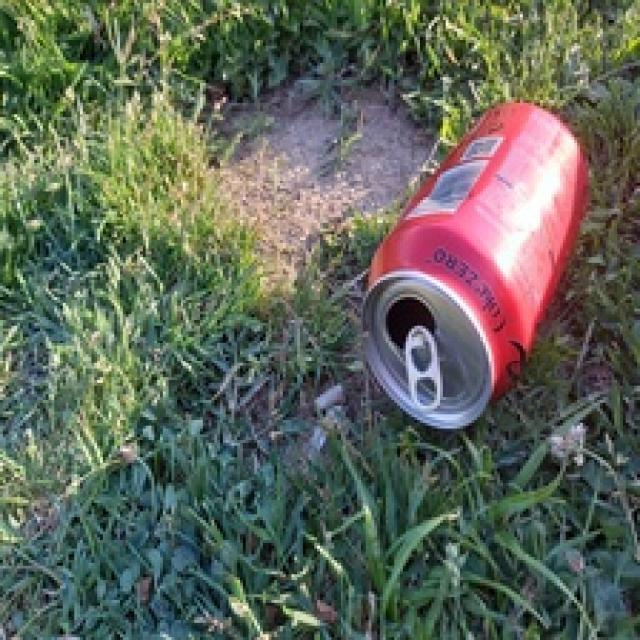recyclable: (357, 100, 590, 432)
